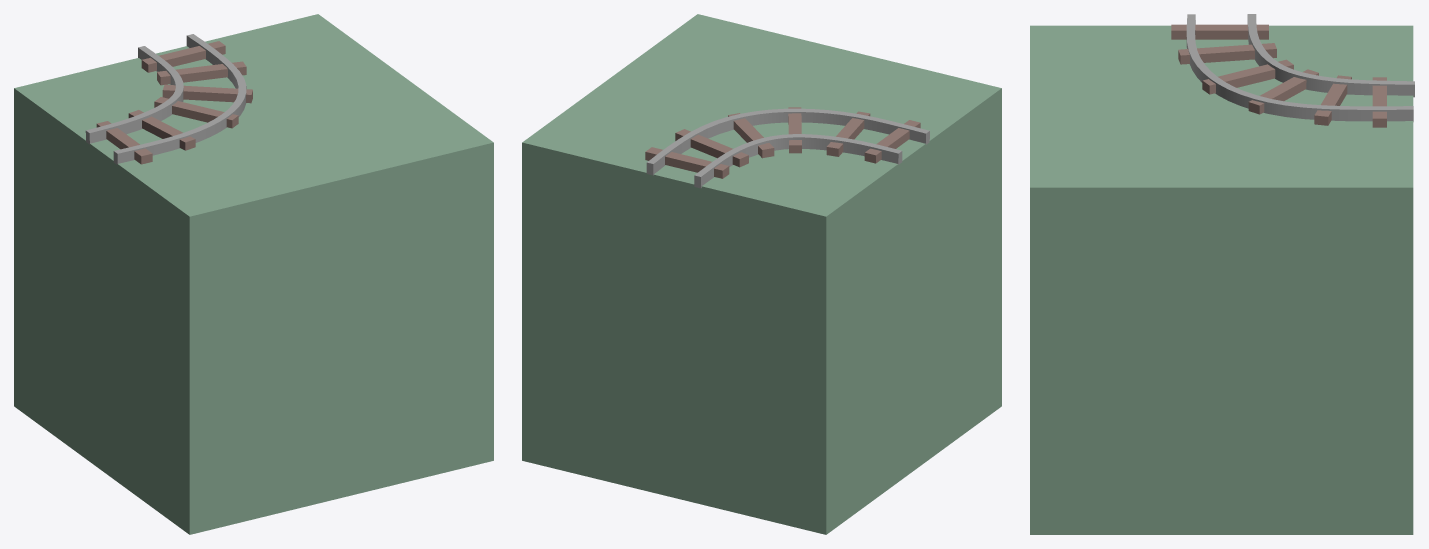
File: bocht_or_export.fbx
3 views of the same model, side by side, from view 1: azimuth 30°, elevation 25°; view 2: azimuth 150°, elevation 25°; view 3: azimuth 270°, elevation 25° (orthographic). The views are drawn at different scales.
Visible parts, largest first — view 1: polySurface8; view 2: polySurface8; view 3: polySurface8.
Boxes of the visible parts, left/top/right/bottom form: polySurface8: left=14, top=14, right=493, bottom=534; polySurface8: left=522, top=14, right=1001, bottom=534; polySurface8: left=1030, top=14, right=1414, bottom=534.
Bounding box in the file's own units: 1 × 1.04 × 1.
